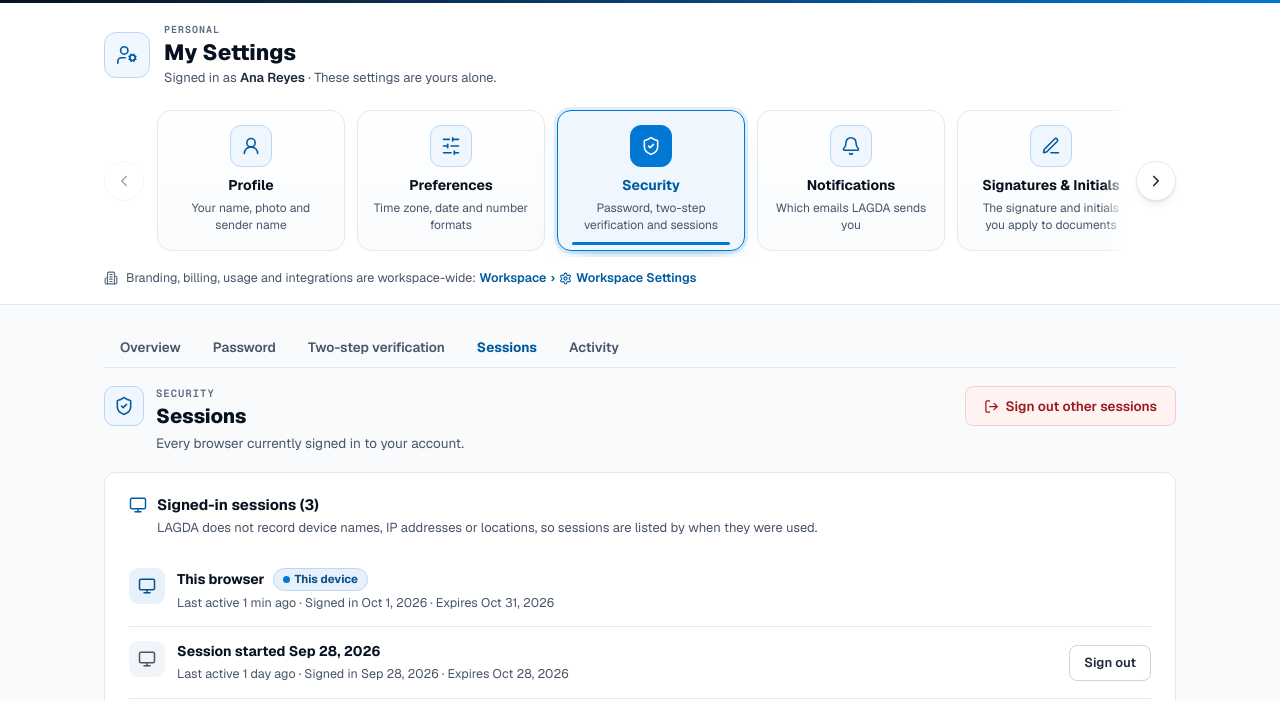
Test case: sessions › lists sessions with this device first and signs out one or all others
Expected: the text "This device" is shown, [273,568,368,591]
Click the button with aria-label "Sign out session": {"x": 1110, "y": 663} [1069,645,1151,681]
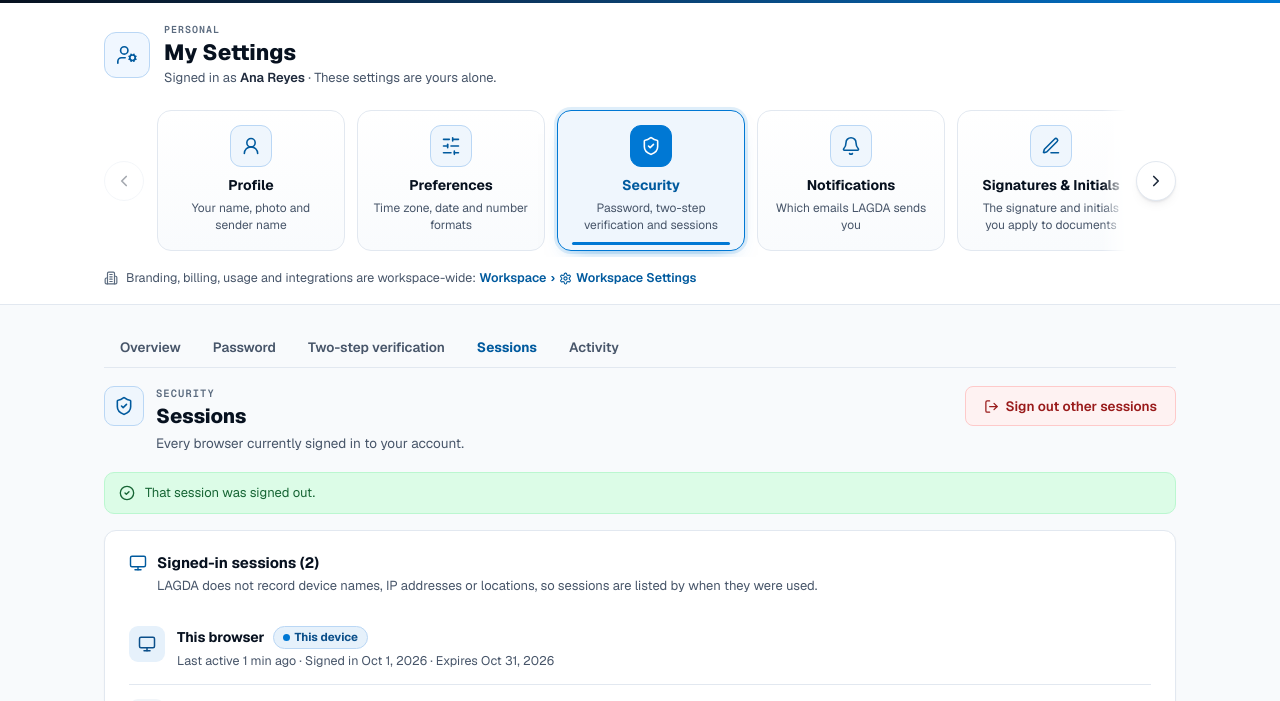
Expected: the text "That session was signed out." is shown, [145,483,315,503]
Click the button "Sign out other sessions": {"x": 1071, "y": 406} [965,386,1176,426]
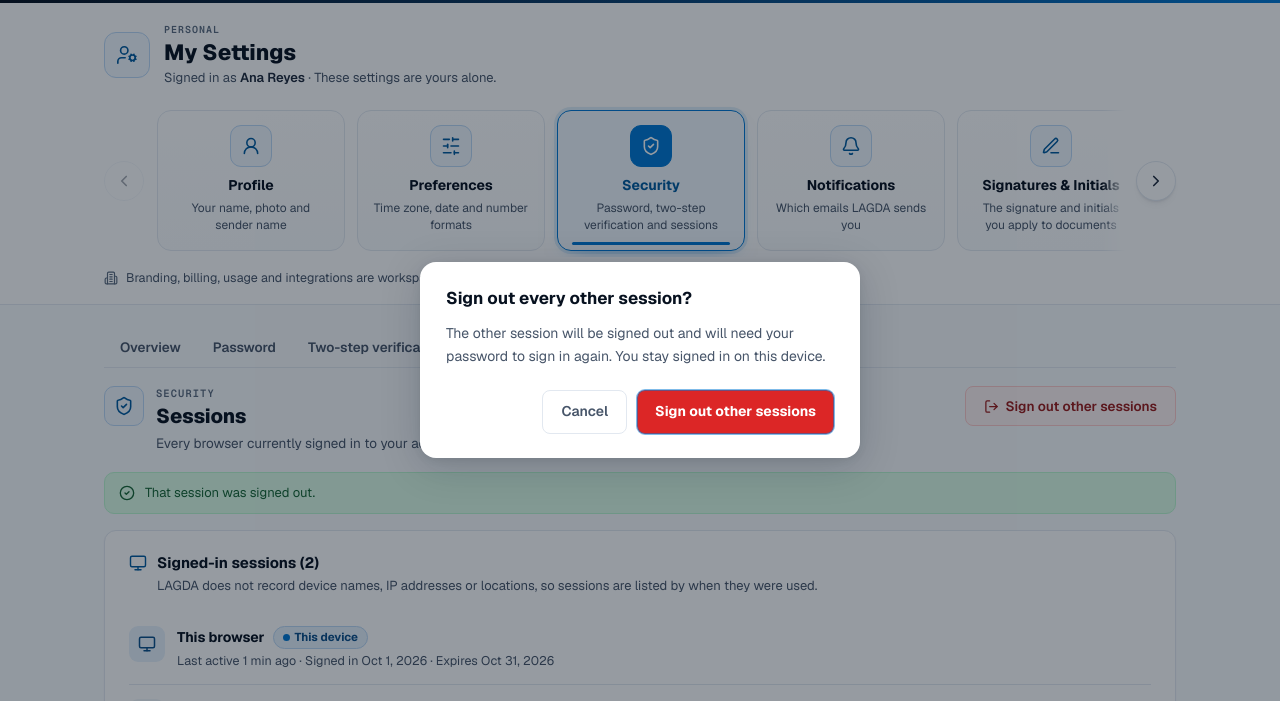
Click the button "Sign out other sessions": {"x": 736, "y": 412} [637,390,834,434]
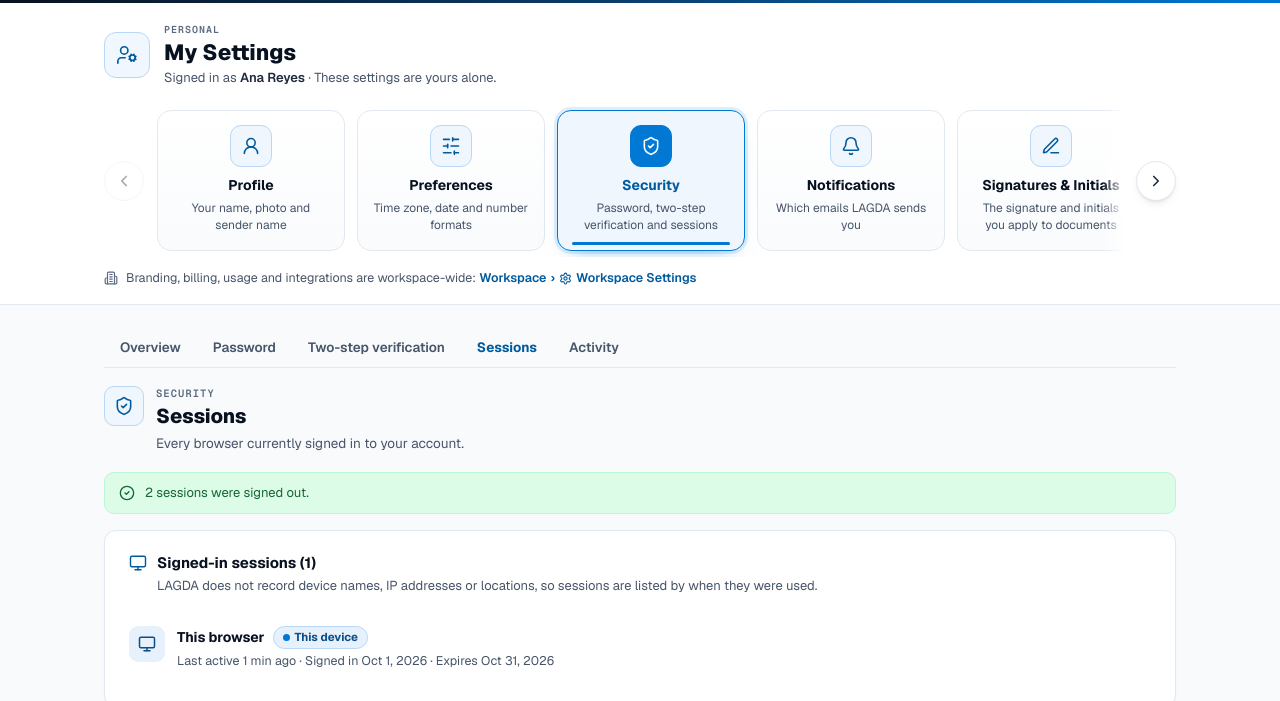
Expected: the text "2 sessions were signed out." is shown, [145,483,309,503]
Expected: the number of list items with test id "session-row" is 1, [129,626,554,669]
